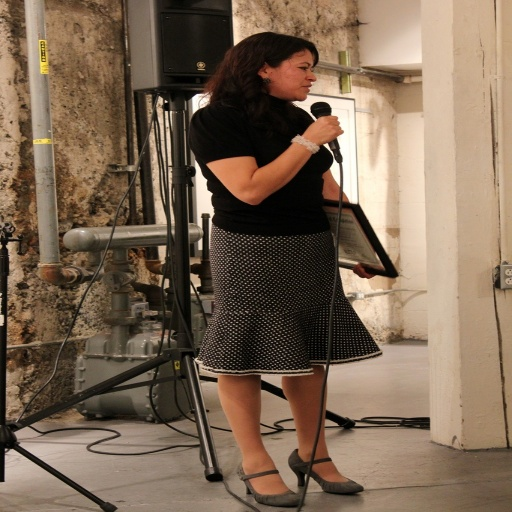hand: (295, 104, 347, 143), (348, 262, 374, 279)
